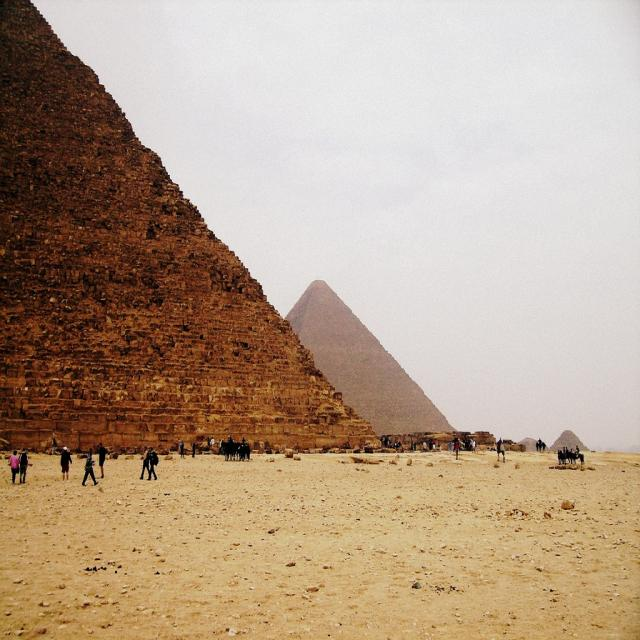body: (80, 447, 98, 488), (146, 445, 160, 482), (60, 445, 73, 484), (8, 448, 21, 486), (448, 436, 477, 452), (18, 447, 30, 484), (97, 442, 109, 479), (139, 446, 152, 480), (378, 434, 403, 449), (452, 436, 463, 461), (51, 432, 58, 455), (191, 441, 199, 458), (208, 435, 216, 451), (217, 437, 224, 455), (180, 440, 185, 458), (220, 438, 225, 455), (574, 444, 580, 458), (226, 434, 234, 444), (471, 438, 476, 453), (412, 440, 418, 452), (564, 445, 570, 457), (206, 436, 212, 447), (422, 439, 427, 452), (428, 439, 433, 452), (409, 440, 414, 452), (241, 434, 247, 444), (537, 437, 542, 445), (498, 437, 503, 443), (562, 446, 566, 453)
